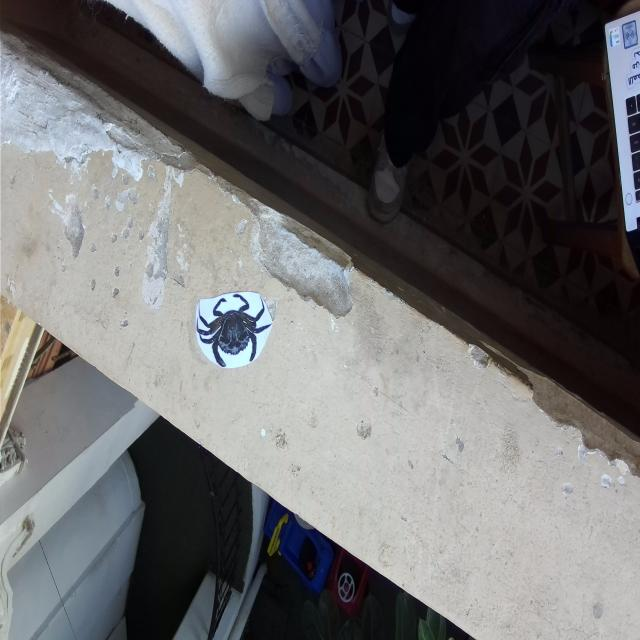European_Green_Crab: (194, 285, 274, 373)
